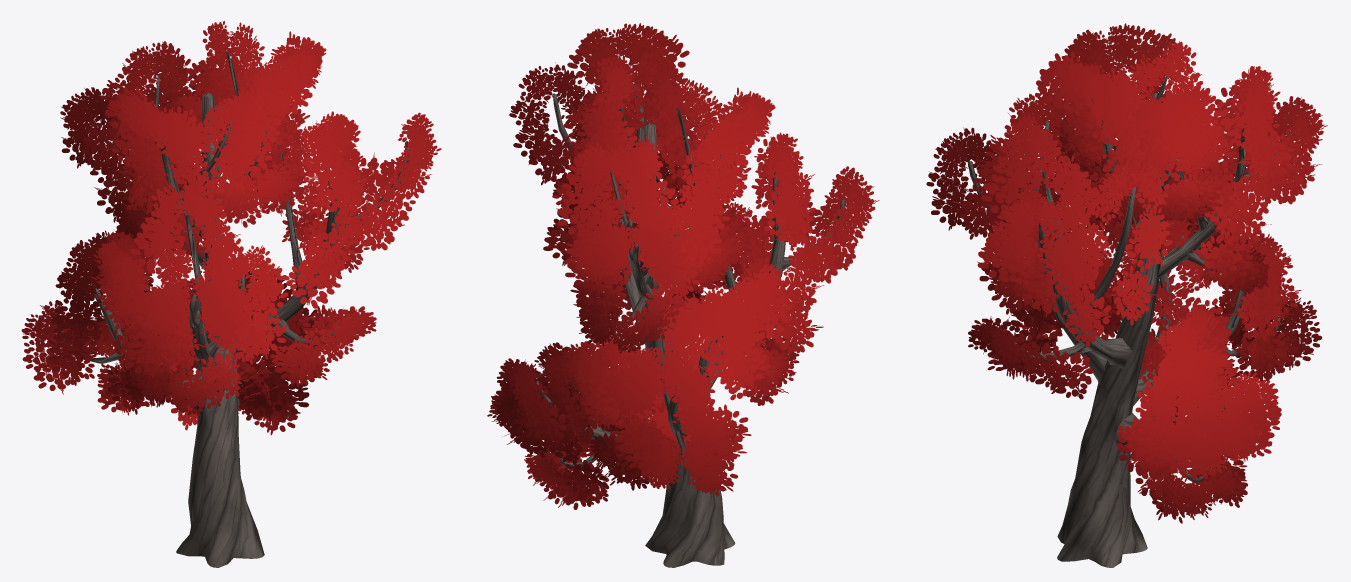
The model's file is TreeGroup002.fbx.
3 views of the same model, side by side, from view 1: azimuth 30°, elevation 25°; view 2: azimuth 150°, elevation 25°; view 3: azimuth 270°, elevation 25° (orthographic). The views are drawn at different scales.
Visible parts, largest first — view 1: TwistedTree_3; view 2: TwistedTree_3; view 3: TwistedTree_3.
Part boxes in pixels (x1=…): TwistedTree_3: x1=21, y1=21, x2=441, y2=567; TwistedTree_3: x1=487, y1=23, x2=879, y2=567; TwistedTree_3: x1=926, y1=23, x2=1327, y2=567.
Size of the model in its own units: 1136 by 1608 by 1151.
Materials: 2 (2 with a texture image).
